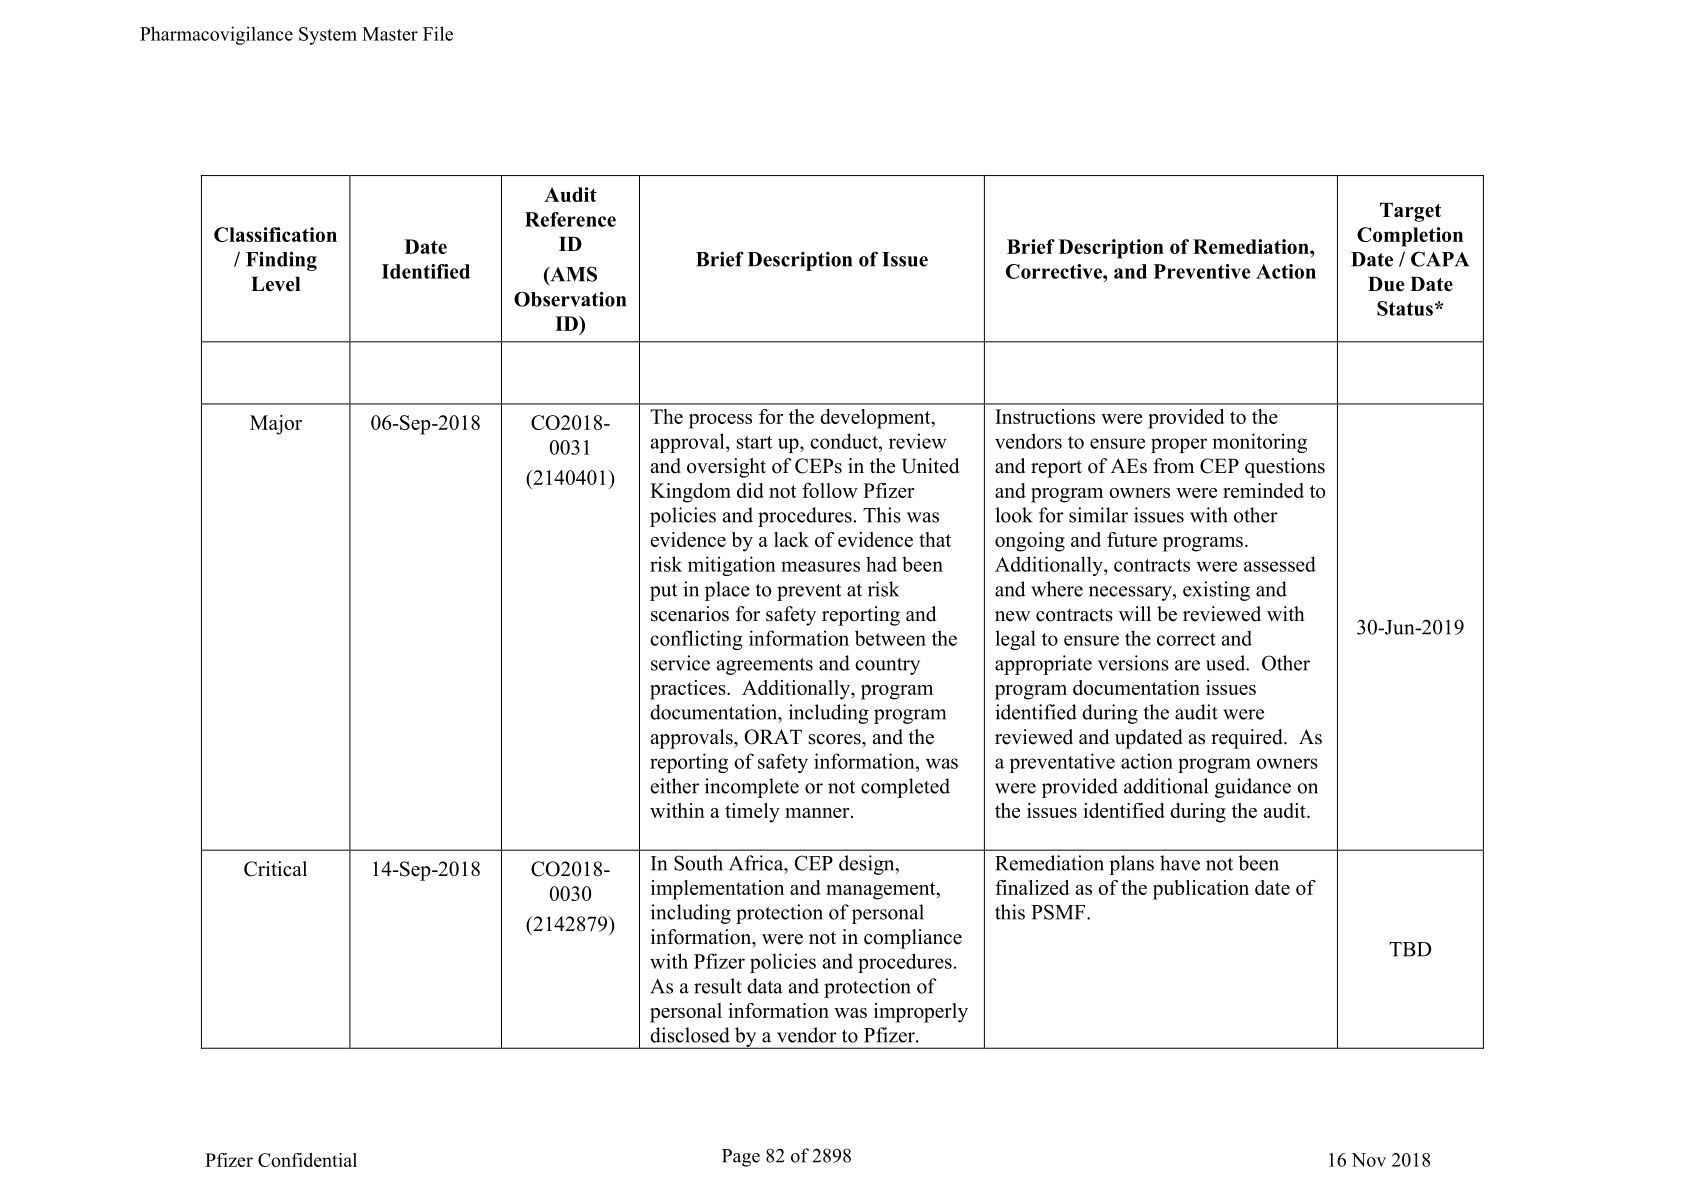full_lined: (200, 174, 1485, 1051)
